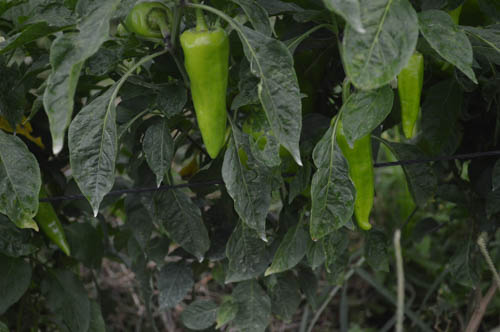ChiliPepper: (177, 24, 228, 160), (329, 112, 376, 229), (394, 44, 425, 142), (28, 192, 74, 256), (118, 3, 169, 40)
